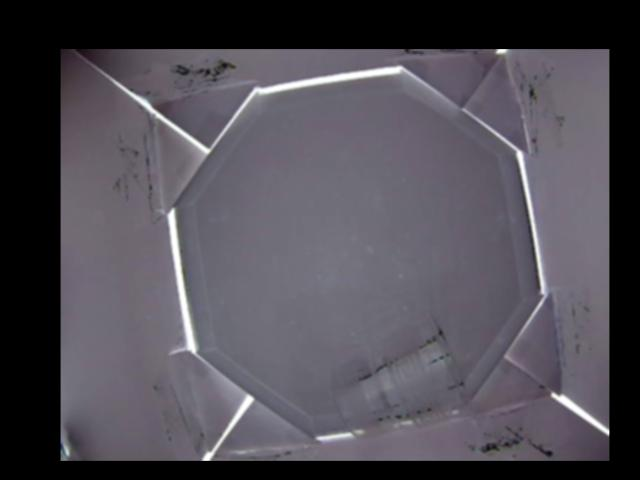Cup: (332, 316, 467, 437)
